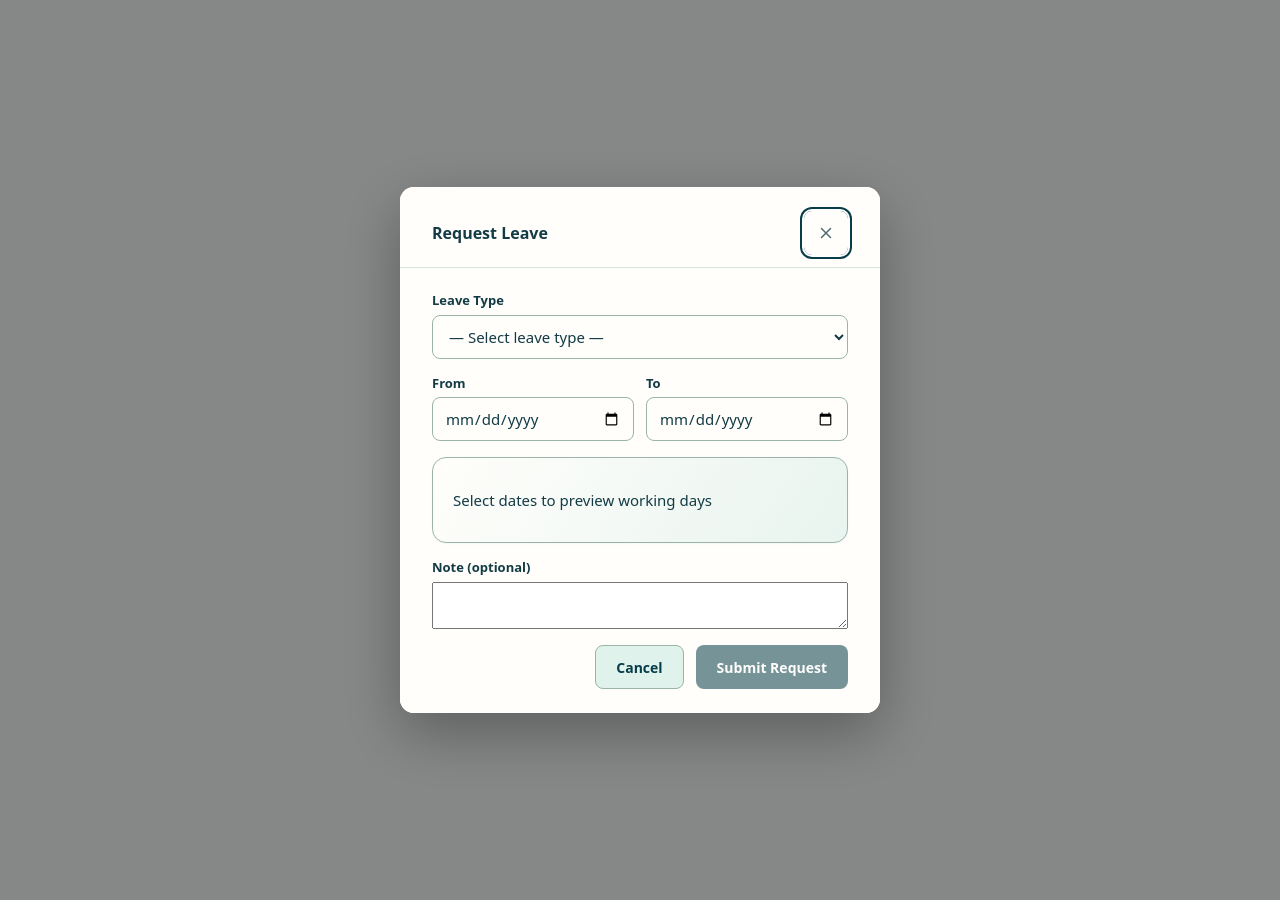
Scenario: RequestLeaveModal ATDD - Story 10.4 field-level server validation › [P0] renders inline field errors and marks the matching date inputs aria-invalid
This screenshot has width=1280, height=900.
Check: the dialog with test id "request-leave-modal" is shown, box [400,187,880,713]
Select "🌴 Annual Leave" in the dropdown labelled "Leave Type" at [640, 336], box [432,314,848,358]
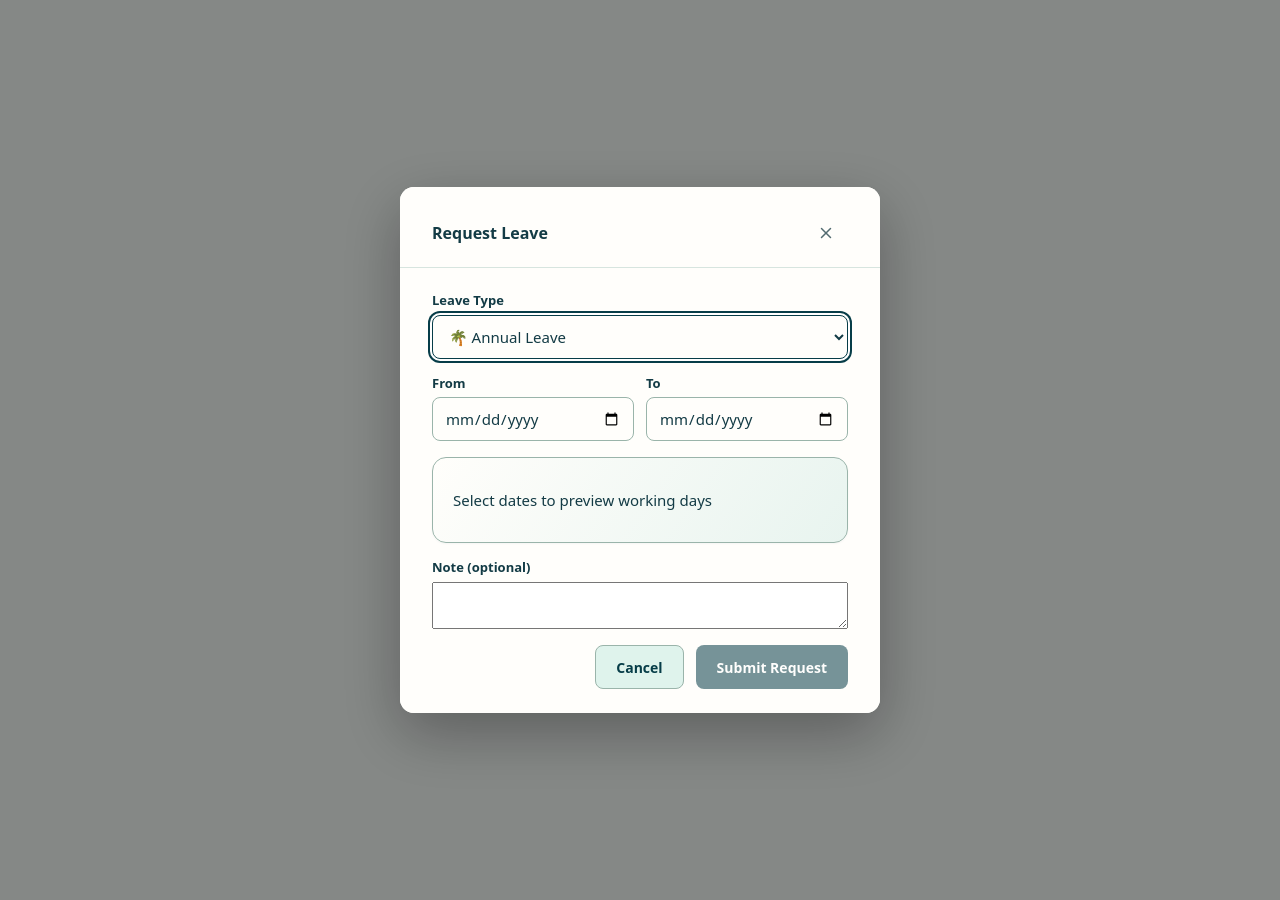
Type "2026-06-10" into the date field with test id "leave-from-date" at [533, 419], box [432,397,634,441]
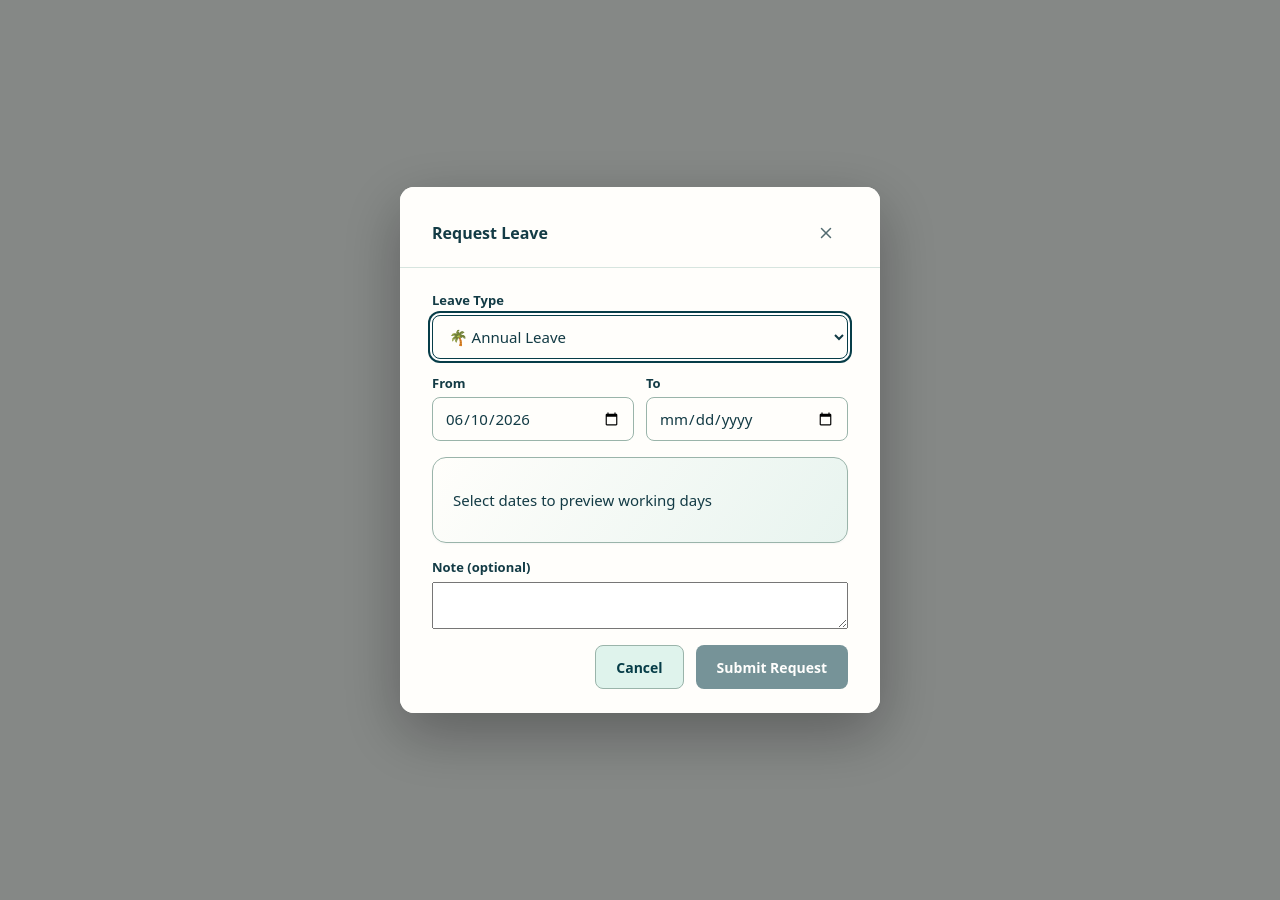
Type "2026-06-12" into the date field with test id "leave-to-date" at [747, 419], box [646,397,848,441]
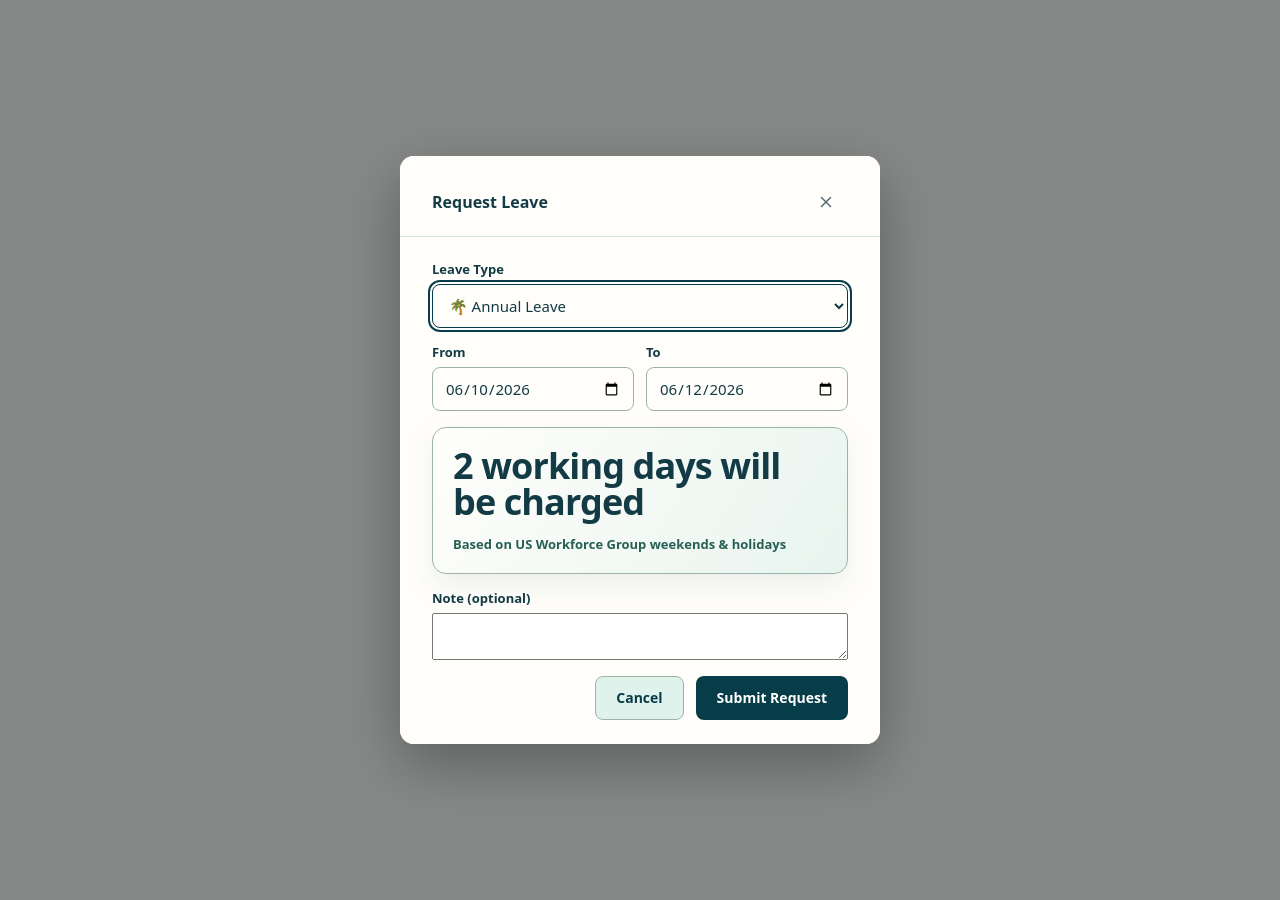
Check: the button with test id "submit-request-btn" is enabled
Click the button with test id "submit-request-btn" at [772, 698], box [696,676,848,720]
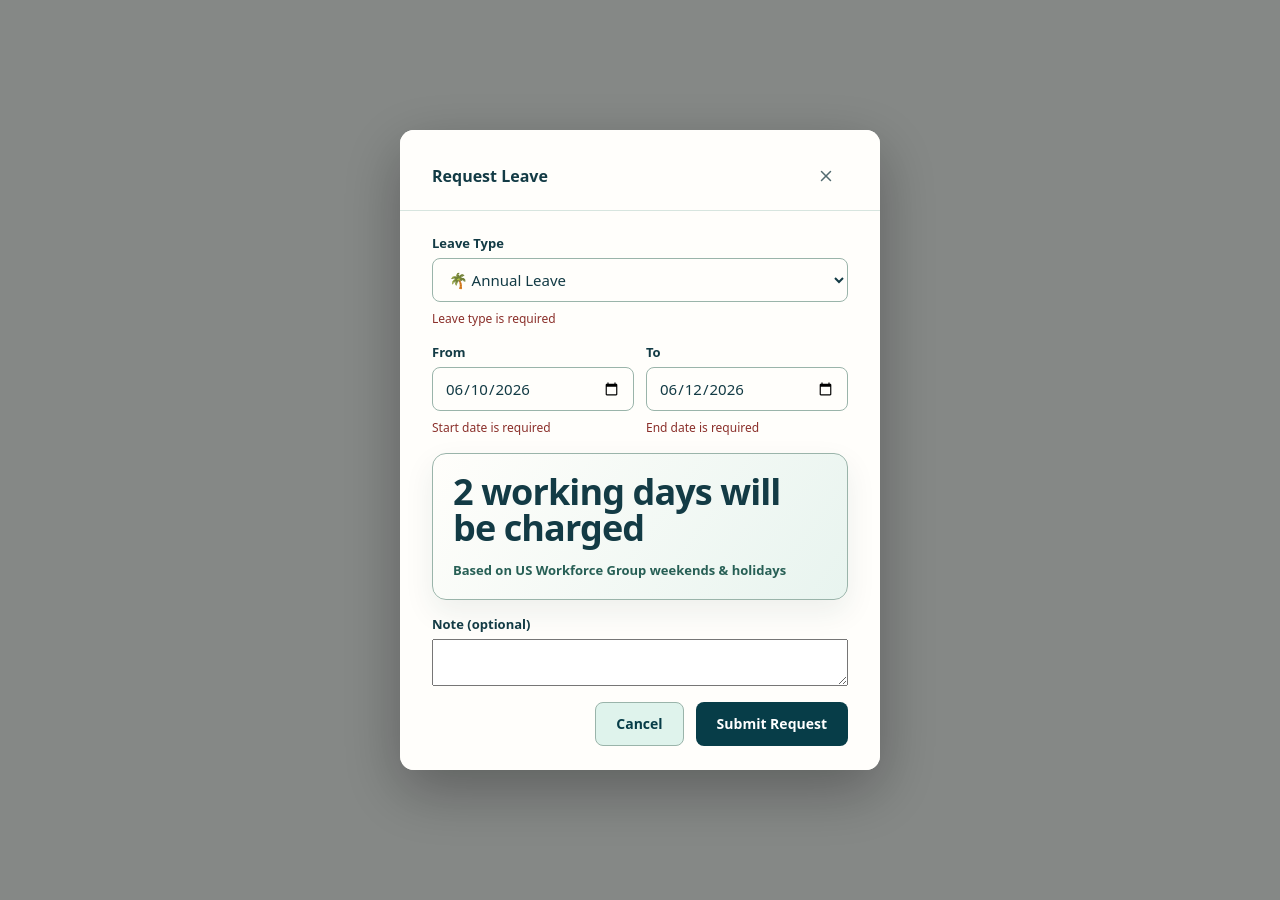
Check: the message with test id "field-error-leave-type" reads "Leave type is required", box [432,310,556,327]
Check: the message with test id "field-error-leave-from-date" reads "Start date is required", box [432,419,551,436]
Check: the message with test id "field-error-leave-to-date" reads "End date is required", box [646,419,759,436]
